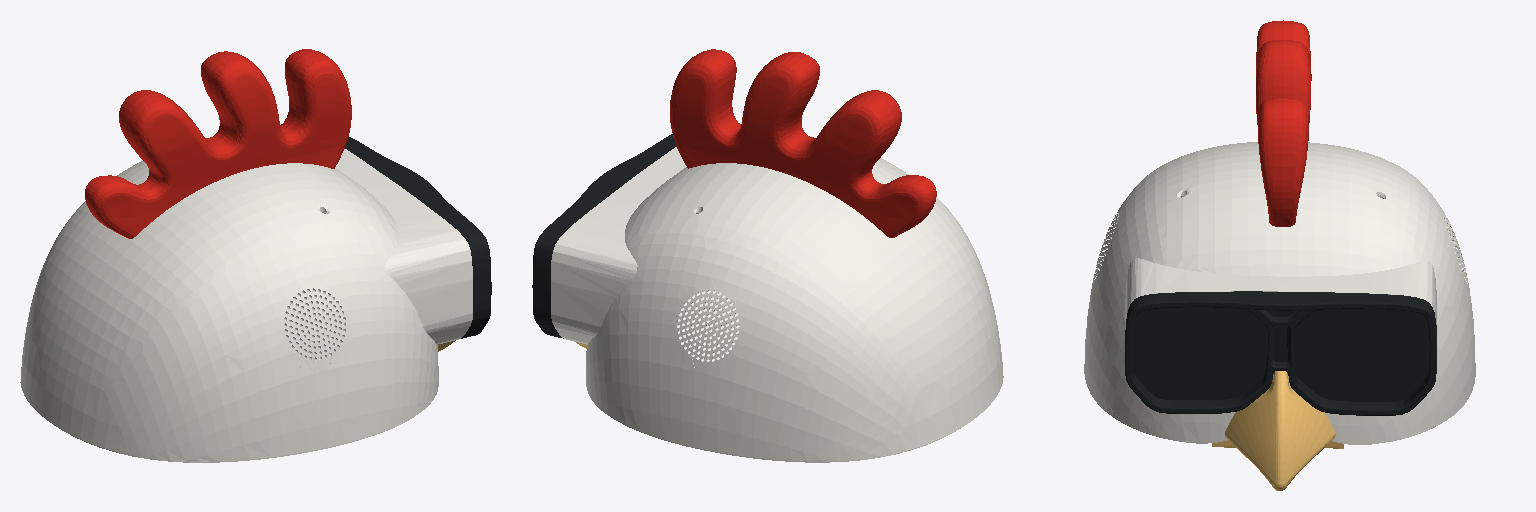
The robot description file, URDF, robot "openchicken_head":
<?xml version='1.0' encoding='utf-8'?>
<robot name="openchicken_head">
  <!-- Head-only description synchronized with robot_allcollisions.xml. See ../README.md. -->
  <mujoco>
    <compiler meshdir="../meshes/mjcf" strippath="true" discardvisual="false" fusestatic="false" inertiafromgeom="false" />
  </mujoco>
  <link name="yaw_roll_motion">
    <inertial>
      <origin xyz="-0.000166657 -0.00500964 0.0178065" rpy="0 0 0" />
      <mass value="0.0486" />
      <inertia ixx="6.97903e-06" iyy="8.10293e-06" izz="9.57884e-06" ixy="3.21657e-07" ixz="-3.4797e-08" iyz="3.4295e-07" />
    </inertial>
    <visual name="yaw_roll_motion_visual_0">
      <origin xyz="0 0 0" rpy="0 0 0" />
      <geometry>
        <mesh filename="package://20261025.SLDASM/meshes/mjcf/openchicken_yaw_roll_motion.stl" />
      </geometry>
      <material name="openchicken_charcoal">
        <color rgba="0.160784 0.176471 0.180392 1" />
      </material>
    </visual>
    <collision name="yaw_roll_motion_collision_1">
      <origin xyz="0 0 0" rpy="0 0 0" />
      <geometry>
        <mesh filename="package://20261025.SLDASM/meshes/mjcf/openchicken_yaw_roll_motion.stl" />
      </geometry>
    </collision>
    <visual name="yaw_roll_motion_visual_2">
      <origin xyz="0 0 0.0145" rpy="-1.570796326794897 -1.570796326794897 0" />
      <geometry>
        <mesh filename="package://20261025.SLDASM/meshes/mjcf/xl330.stl" />
      </geometry>
      <material name="xl330_material">
        <color rgba="0.160784 0.176471 0.180392 1" />
      </material>
    </visual>
    <collision name="yaw_roll_motion_collision_3">
      <origin xyz="0 0 0.0145" rpy="-1.570796326794897 -1.570796326794897 0" />
      <geometry>
        <mesh filename="package://20261025.SLDASM/meshes/mjcf/xl330.stl" />
      </geometry>
    </collision>
  </link>
  <link name="bottom_head">
    <inertial>
      <origin xyz="0.0121897305041 0.0002353799925263 -0.02308671781452" rpy="0 0 0" />
      <mass value="0.198" />
      <inertia ixx="0.0003158555864626" iyy="0.000257664339532" izz="0.0002238925028343" ixy="-4.482497160319e-06" ixz="1.950791112109e-05" iyz="8.571497562487e-06" />
    </inertial>
    <visual name="bottom_head_visual_0">
      <origin xyz="0 0 -0.0035" rpy="-1.909408785596978e-10 -3.74525508384238e-08 0.01019632679482782" />
      <geometry>
        <mesh filename="package://20261025.SLDASM/meshes/mjcf/openchicken_bottom_head.stl" />
      </geometry>
      <material name="openchicken_terracotta">
        <color rgba="0.850980 0.415686 0.196078 1" />
      </material>
    </visual>
    <collision name="bottom_head_collision">
      <origin xyz="0 0 -0.0035" rpy="-1.909408785596978e-10 -3.74525508384238e-08 0.01019632679482782" />
      <geometry>
        <mesh filename="package://20261025.SLDASM/meshes/mjcf/openchicken_bottom_head.stl" />
      </geometry>
    </collision>
    <visual name="bottom_head_visual_2">
      <origin xyz="-5.430619871111e-10 -2.768642732105e-12 0.011" rpy="-1.560600000000106 -1.570796289341897 0" />
      <geometry>
        <mesh filename="package://20261025.SLDASM/meshes/mjcf/xl330.stl" />
      </geometry>
      <material name="xl330_material">
        <color rgba="0.160784 0.176471 0.180392 1" />
      </material>
    </visual>
    <collision name="bottom_head_collision_3">
      <origin xyz="-5.430619871111e-10 -2.768642732105e-12 0.011" rpy="-1.560600000000106 -1.570796289341897 0" />
      <geometry>
        <mesh filename="package://20261025.SLDASM/meshes/mjcf/xl330.stl" />
      </geometry>
    </collision>
    <visual name="bottom_head_visual_4">
      <origin xyz="0 0 -0.0035" rpy="-1.909408785596978e-10 -3.74525508384238e-08 0.01019632679482782" />
      <geometry>
        <mesh filename="package://20261025.SLDASM/meshes/mjcf/openchicken_upper_shell.stl" />
      </geometry>
      <material name="openchicken_warm_white">
        <color rgba="0.945098 0.937255 0.909804 1" />
      </material>
    </visual>
    <visual name="bottom_head_visual_5">
      <origin xyz="0 0 -0.0035" rpy="-1.909408785596978e-10 -3.74525508384238e-08 0.01019632679482782" />
      <geometry>
        <mesh filename="package://20261025.SLDASM/meshes/mjcf/openchicken_upper_beak.stl" />
      </geometry>
      <material name="openchicken_beak_gold">
        <color rgba="0.937255 0.768627 0.466667 1" />
      </material>
    </visual>
    <visual name="bottom_head_visual_6">
      <origin xyz="0 0 -0.0035" rpy="-1.909408785596978e-10 -3.74525508384238e-08 0.01019632679482782" />
      <geometry>
        <mesh filename="package://20261025.SLDASM/meshes/mjcf/openchicken_eye_frame.stl" />
      </geometry>
      <material name="openchicken_charcoal">
        <color rgba="0.160784 0.176471 0.180392 1" />
      </material>
    </visual>
    <visual name="bottom_head_visual_7">
      <origin xyz="0 0 -0.0035" rpy="-1.909408785596978e-10 -3.74525508384238e-08 0.01019632679482782" />
      <geometry>
        <mesh filename="package://20261025.SLDASM/meshes/mjcf/openchicken_head_internals.stl" />
      </geometry>
      <material name="openchicken_charcoal">
        <color rgba="0.160784 0.176471 0.180392 1" />
      </material>
    </visual>
    <collision name="upper_head_collision">
      <origin xyz="0 0 -0.0035" rpy="-1.909408785596978e-10 -3.74525508384238e-08 0.01019632679482782" />
      <geometry>
        <mesh filename="package://20261025.SLDASM/meshes/mjcf/openchicken_upper_head.stl" />
      </geometry>
    </collision>
  </link>
  <joint name="head_roll" type="revolute">
    <origin xyz="-0.0179 0 0.0145" rpy="-0 -1.570796326794897 0" />
    <parent link="yaw_roll_motion" />
    <child link="bottom_head" />
    <axis xyz="0 0 1" />
    <!-- MJCF has no velocity limit; 1000000 is a URDF numeric placeholder, not a hardware speed rating. -->
    <limit lower="-0.4363323129985913" upper="0.4363323129985735" effort="0.96" velocity="1000000" />
    <dynamics damping="0.053" friction="0.0048" />
  </joint>
  <link name="comb">
    <inertial>
      <origin xyz="0.07390543148255 0.0001000942037456 -0.01447555403313" rpy="0 0 0" />
      <mass value="0.001" />
      <inertia ixx="4.782539032731e-07" iyy="5.631136441498e-07" izz="1.088370490447e-07" ixy="4.435495290036e-12" ixz="3.766515879603e-08" iyz="-1.424645659639e-12" />
    </inertial>
    <visual name="comb_visual_0">
      <origin xyz="0 0 0" rpy="0 0 0" />
      <geometry>
        <mesh filename="package://20261025.SLDASM/meshes/mjcf/openchicken_comb.stl" />
      </geometry>
      <material name="openchicken_vermillion">
        <color rgba="0.850980 0.211765 0.168627 1" />
      </material>
    </visual>
  </link>
  <joint name="comb_fixed" type="fixed">
    <origin xyz="0 0 -0.0035" rpy="-1.909408785596978e-10 -3.74525508384238e-08 0.01019632679482812" />
    <parent link="bottom_head" />
    <child link="comb" />
  </joint>
  <link name="lower_beak">
    <inertial>
      <origin xyz="0.013539 -0.0021817 0.016631" rpy="0 0 0" />
      <mass value="0.0026251" />
      <inertia ixx="1.3047e-07" iyy="2.2865e-07" izz="1.3779e-07" ixy="1.5086e-08" ixz="2.0656e-08" iyz="-5.734e-09" />
    </inertial>
    <visual name="lower_beak_visual_0">
      <origin xyz="0 0 0" rpy="0 0 0" />
      <geometry>
        <mesh filename="package://20261025.SLDASM/meshes/mjcf/openchicken_lower_beak.stl" />
      </geometry>
      <material name="openchicken_beak_gold">
        <color rgba="0.937255 0.768627 0.466667 1" />
      </material>
    </visual>
    <collision name="lower_beak_collision_1">
      <origin xyz="0 0 0" rpy="0 0 0" />
      <geometry>
        <mesh filename="package://20261025.SLDASM/meshes/mjcf/openchicken_lower_beak.stl" />
      </geometry>
    </collision>
  </link>
  <joint name="passive_beak" type="revolute">
    <origin xyz="-0.00116002563286 0.01568898774097 -0.05535000004045" rpy="-1.570740162452642 1.570792691042335 -3.13134383565775" />
    <parent link="bottom_head" />
    <child link="lower_beak" />
    <axis xyz="0 0 -1" />
    <!-- MJCF has no velocity limit; 1000000 is a URDF numeric placeholder, not a hardware speed rating. -->
    <limit lower="0" upper="0.5235987755983" effort="0.08" velocity="1000000" />
    <dynamics damping="0.0005" friction="0" />
  </joint>
</robot>

--- Facts derived from the render (not from the file) ---
3 views of the same robot in one strip: view 1: azimuth 30°, elevation 25°; view 2: azimuth 150°, elevation 25°; view 3: azimuth 270°, elevation 25° (orthographic).
Robot: openchicken_head — 4 links, 3 joints (2 revolute, 1 fixed); root link yaw_roll_motion; default pose: every joint at zero.
Links seen in each view (by area): view 1: bottom_head, comb; view 2: bottom_head, comb; view 3: bottom_head, comb.
Link boxes in pixels (<box>): bottom_head: <box>20,137,491,462</box>; comb: <box>85,49,351,238</box>; bottom_head: <box>532,134,1003,462</box>; comb: <box>670,49,936,237</box>; bottom_head: <box>1084,142,1475,488</box>; comb: <box>1256,20,1311,226</box>.
Bounding box of the posed robot: 0.1322 × 0.1076 × 0.1064 m (x, y, z).
6 mesh visuals loaded from 9 distinct referenced files (6 binary STL); not drawn: 4 (reference not matched to a file when rendering).
